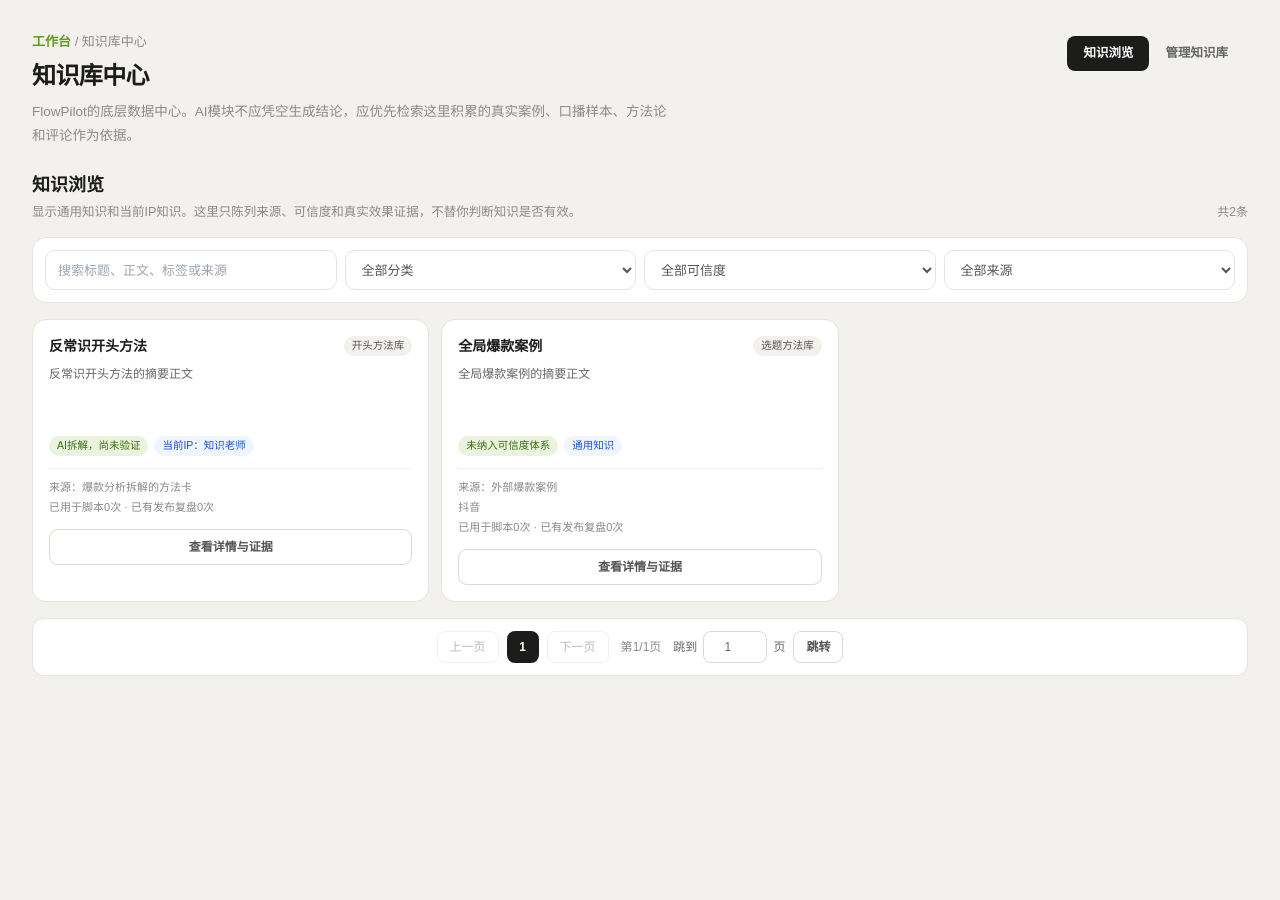
原有新增导入和专项库能力保留在次级管理入口
expect the heading "知识浏览" is shown: met, box [32,174,104,194]
Click the button "管理知识库": (1197, 53) [1150,36,1244,71]
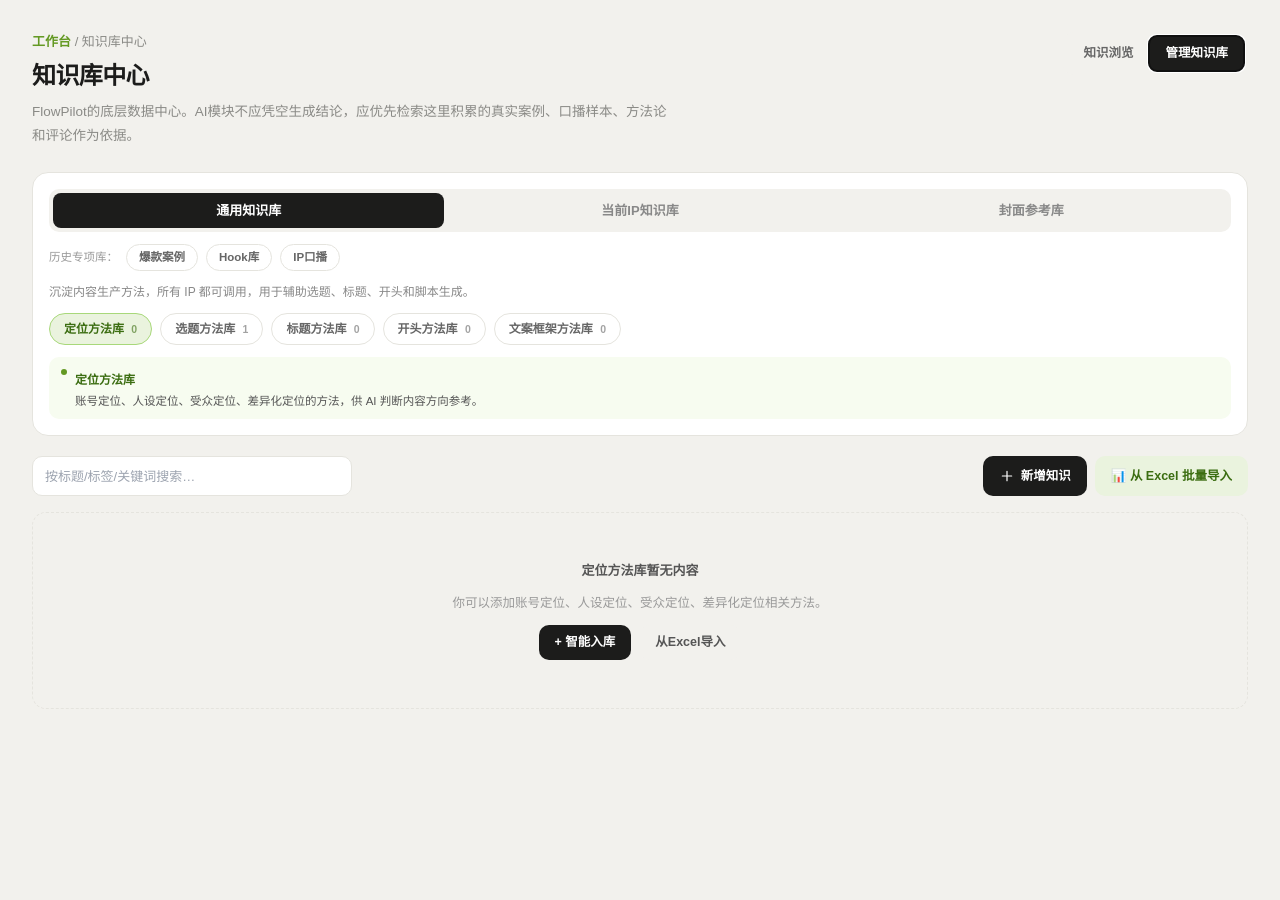
expect the button "通用知识库" is shown: met, box [53,192,444,228]
expect the text "历史专项库：" is shown: met, box [49,249,118,266]
expect the link "新增知识" is shown: met, box [983,456,1087,496]
